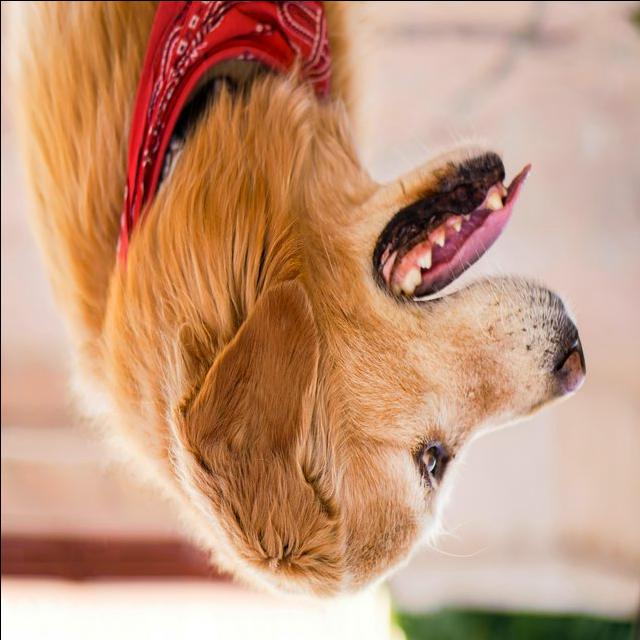retriever: (6, 1, 587, 602)
